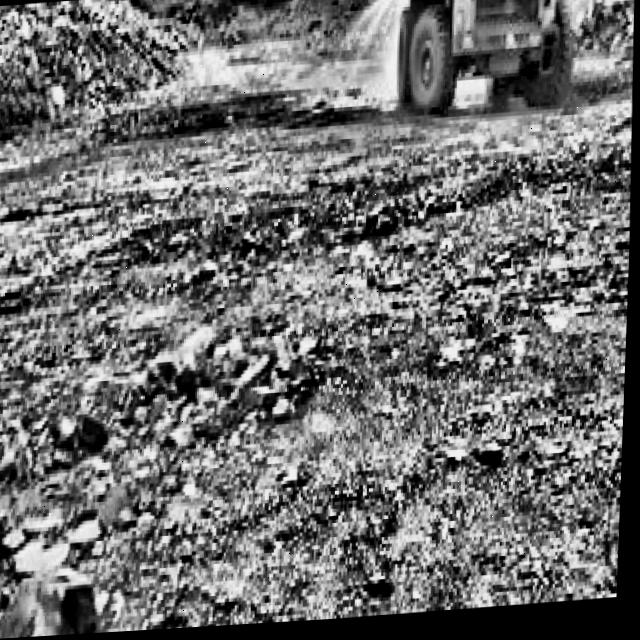dump_truck: (370, 0, 592, 113)
